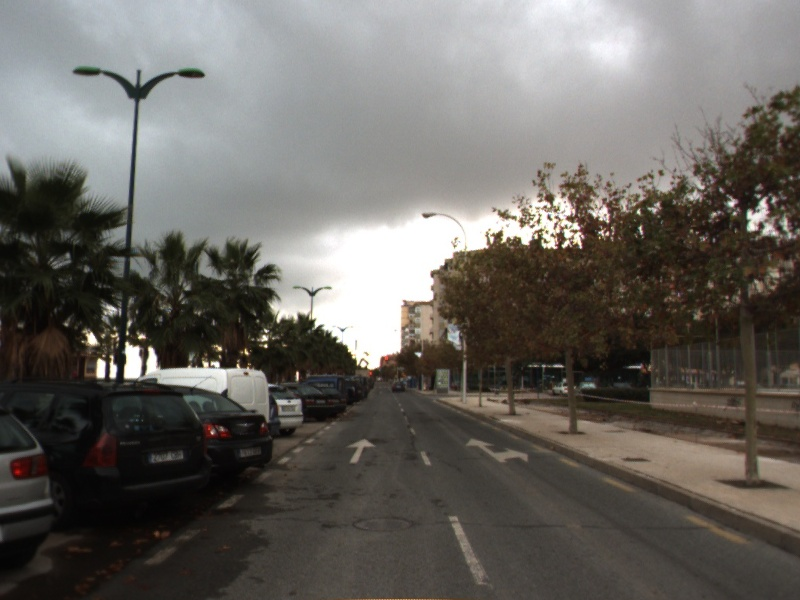STRAIGHT: (344, 437, 378, 464)
STRAIGHT_RIGHT: (464, 436, 530, 464)
